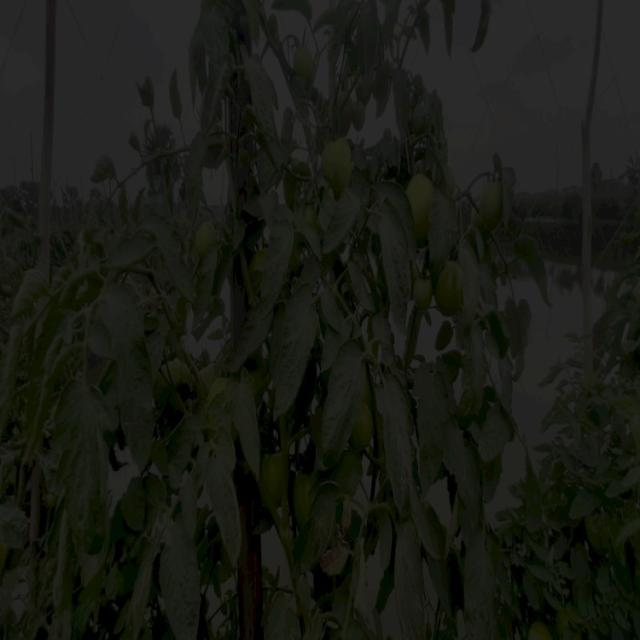tomato: (261, 444, 296, 502), (323, 136, 354, 193), (409, 171, 435, 237), (439, 265, 465, 316), (295, 468, 317, 526), (163, 356, 197, 393), (355, 403, 377, 453), (412, 270, 435, 312), (295, 41, 317, 84), (480, 186, 501, 228), (192, 218, 219, 250), (350, 97, 370, 134), (210, 371, 230, 396), (530, 617, 549, 640)
